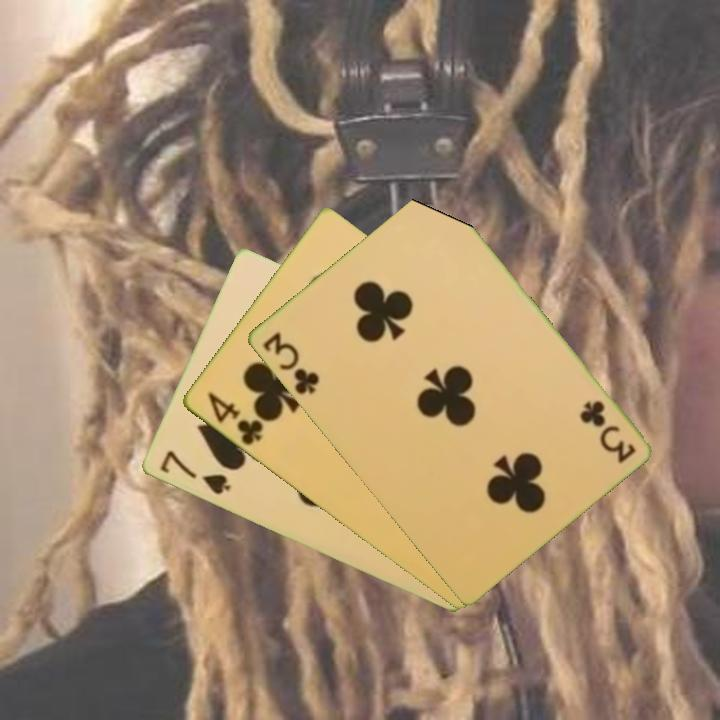3c: (258, 328, 322, 398), (576, 397, 638, 466)
4c: (203, 388, 266, 449)
7s: (156, 447, 233, 498)
